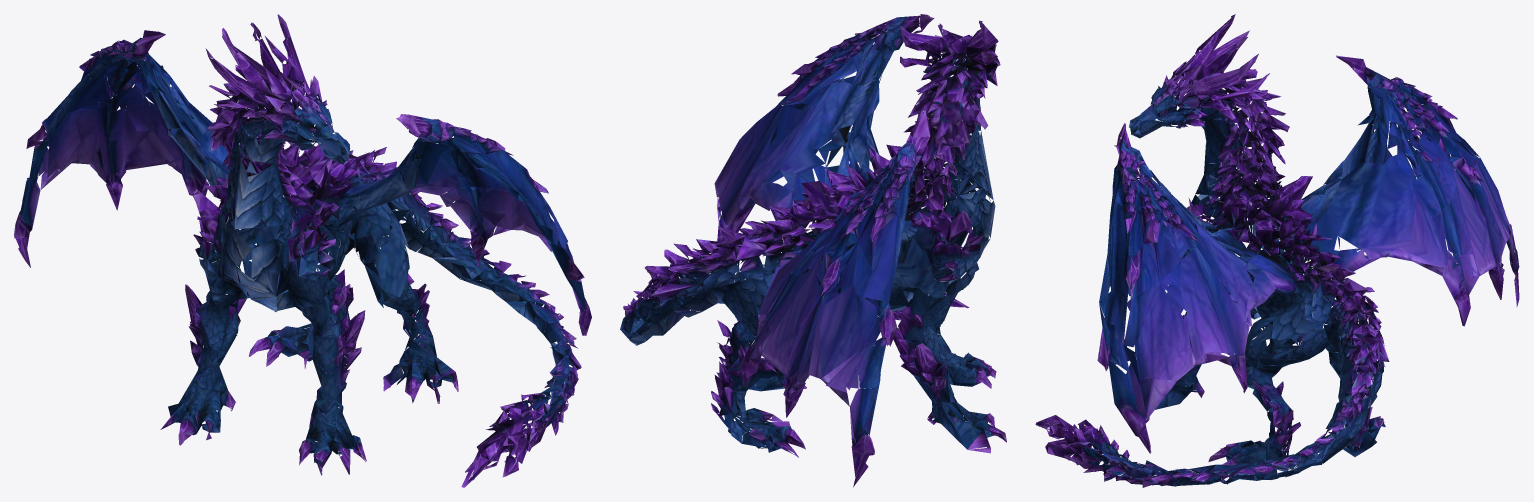
The model's file is crystal-dragon.glb.
3 views of the same model, side by side, from view 1: azimuth 30°, elevation 25°; view 2: azimuth 150°, elevation 25°; view 3: azimuth 270°, elevation 25° (orthographic). The views are drawn at different scales.
Parts seen in each view (by area): view 1: crystal-dragon; view 2: crystal-dragon; view 3: crystal-dragon.
Part boxes in pixels (x1,y1,x2,y2): crystal-dragon: (14,14,591,487); crystal-dragon: (620,14,1006,487); crystal-dragon: (1035,14,1519,487).
Size of the model in its own units: 5.86 by 6 by 7.22.
Materials: 1 (1 with a texture image).
